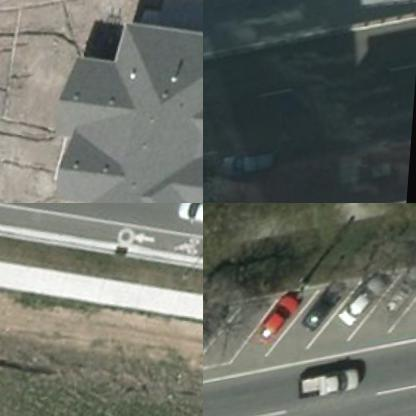car: (294, 272, 349, 337), (340, 266, 395, 330), (254, 278, 309, 342), (219, 141, 283, 187), (298, 366, 366, 404), (203, 294, 231, 360), (387, 255, 415, 316), (173, 203, 202, 237)
